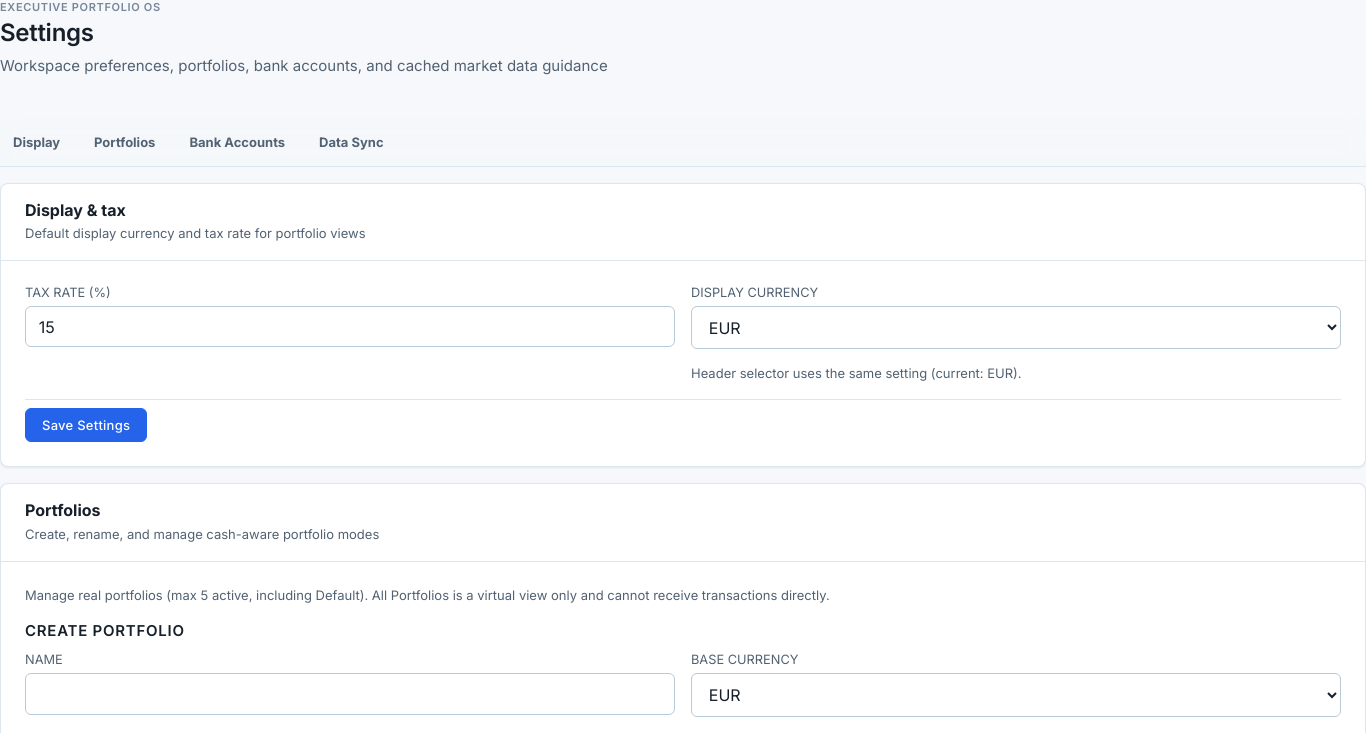
Test: Settings Page › creates portfolio and shows it after reload
Type "Growth" into the field labelled "Name". click: (350, 694)
box: [25,674,675,715]
(page scrolled)
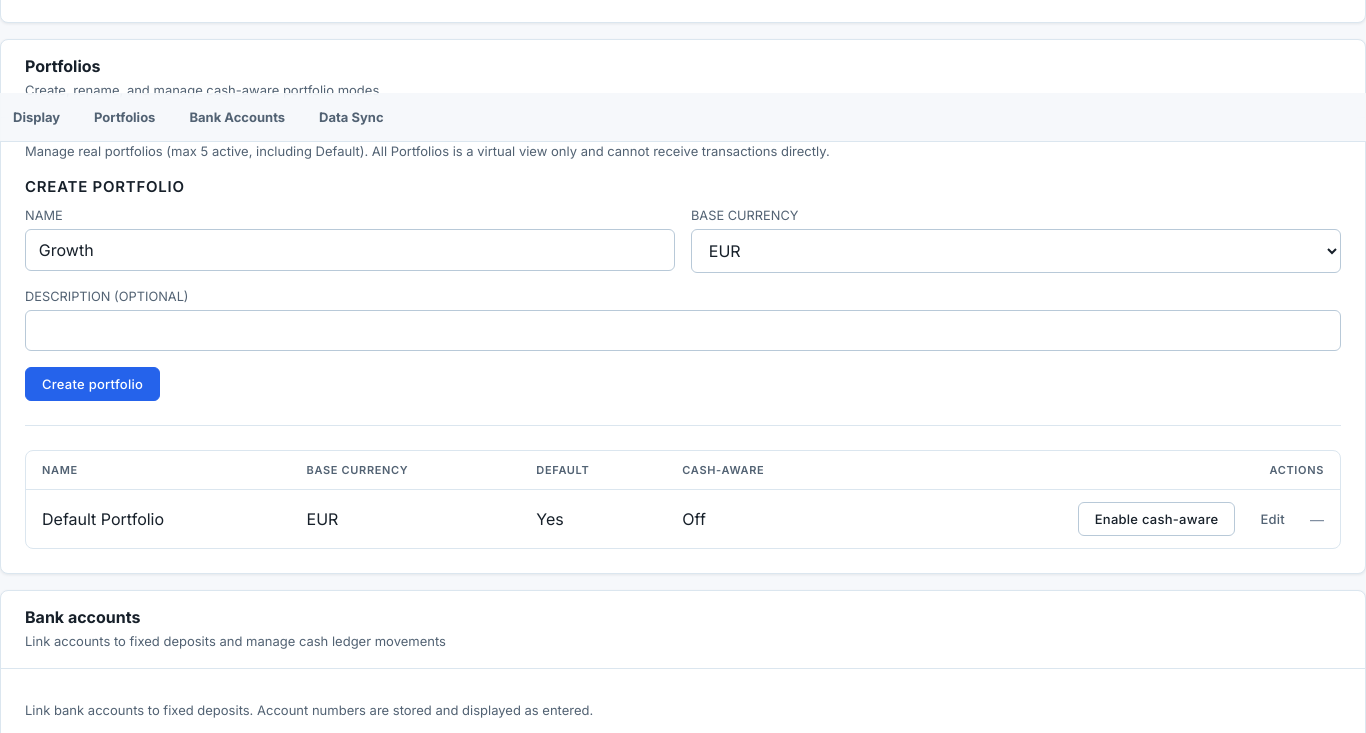
Click the button "Create portfolio". click: (93, 384)
box: [25,367,160,401]
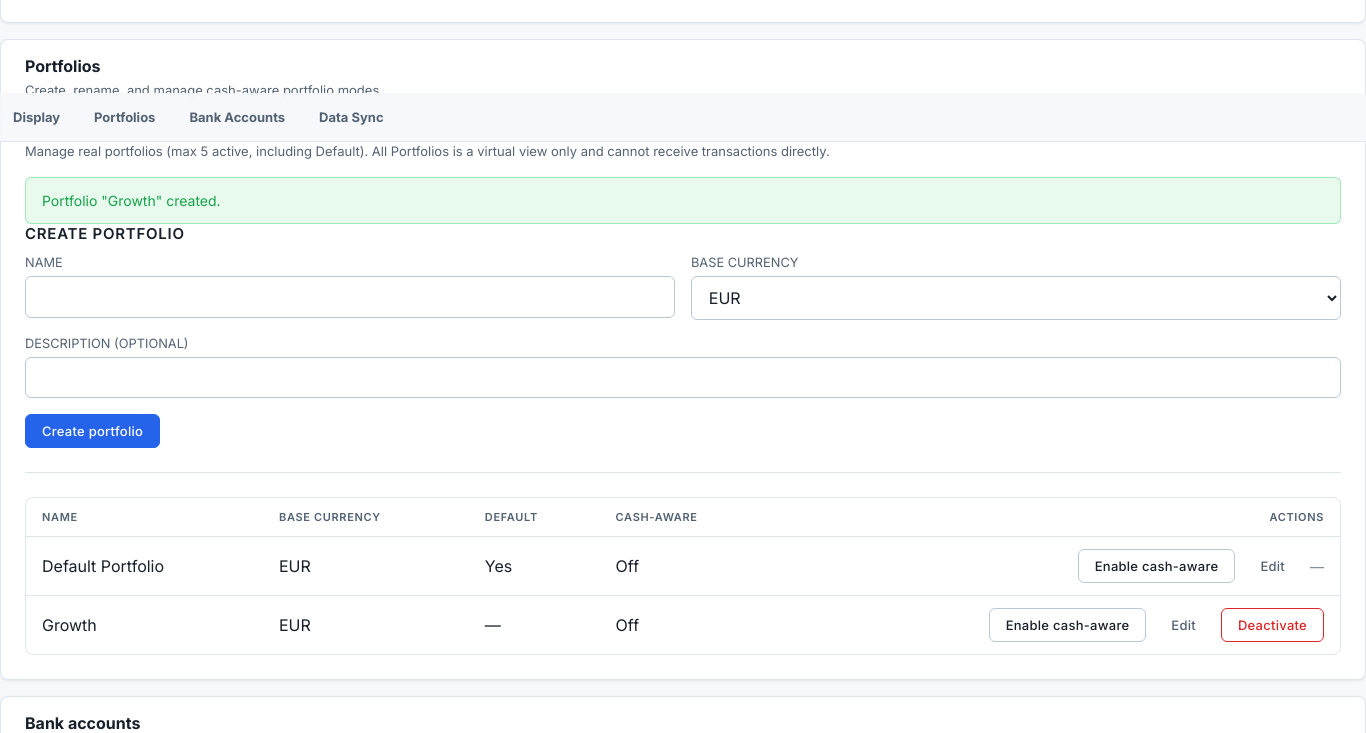
expect the text "Growth" is shown: met, box [26,596,263,654]
